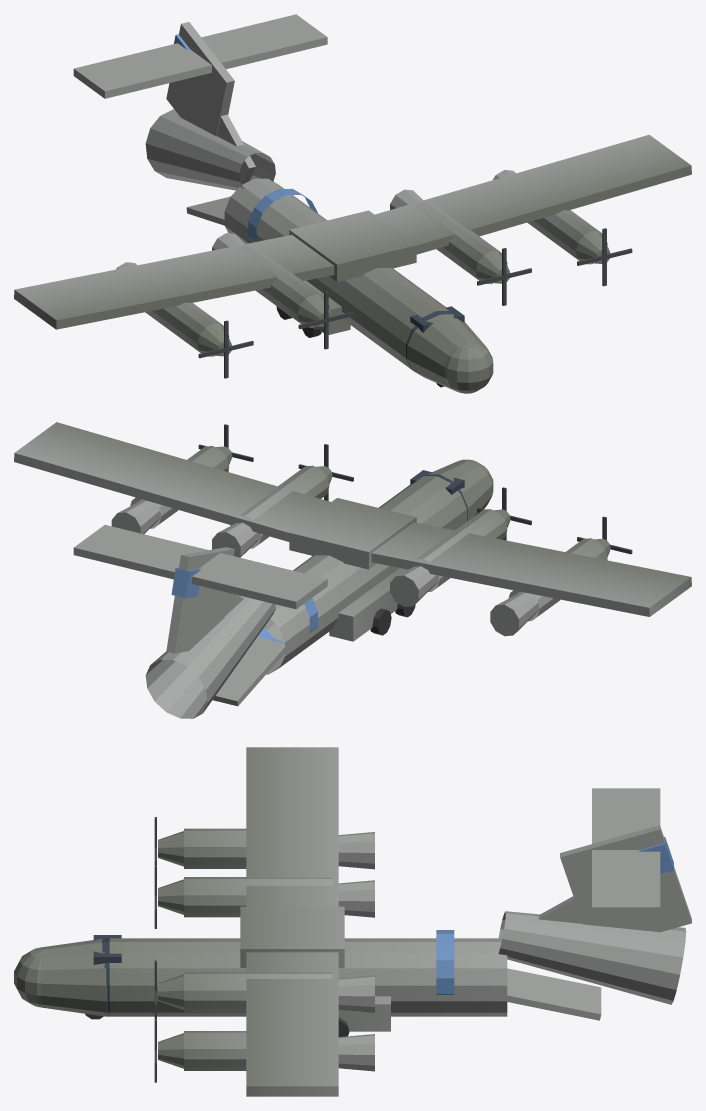
Rendered from cargo.glb.
3 views of the same model, one above another, from view 1: azimuth 30°, elevation 25°; view 2: azimuth 150°, elevation 25°; view 3: azimuth 270°, elevation 25° (orthographic). The views are drawn at different scales.
Parts seen in each view (by area): view 1: Body; view 2: Body; view 3: Body.
Boxes of the visible parts, bbox=[...] form: Body: bbox=[14, 14, 691, 393]; Body: bbox=[14, 422, 691, 718]; Body: bbox=[14, 747, 691, 1096].
Size of the model in its own units: 39.99 by 10.48 by 33.75.
